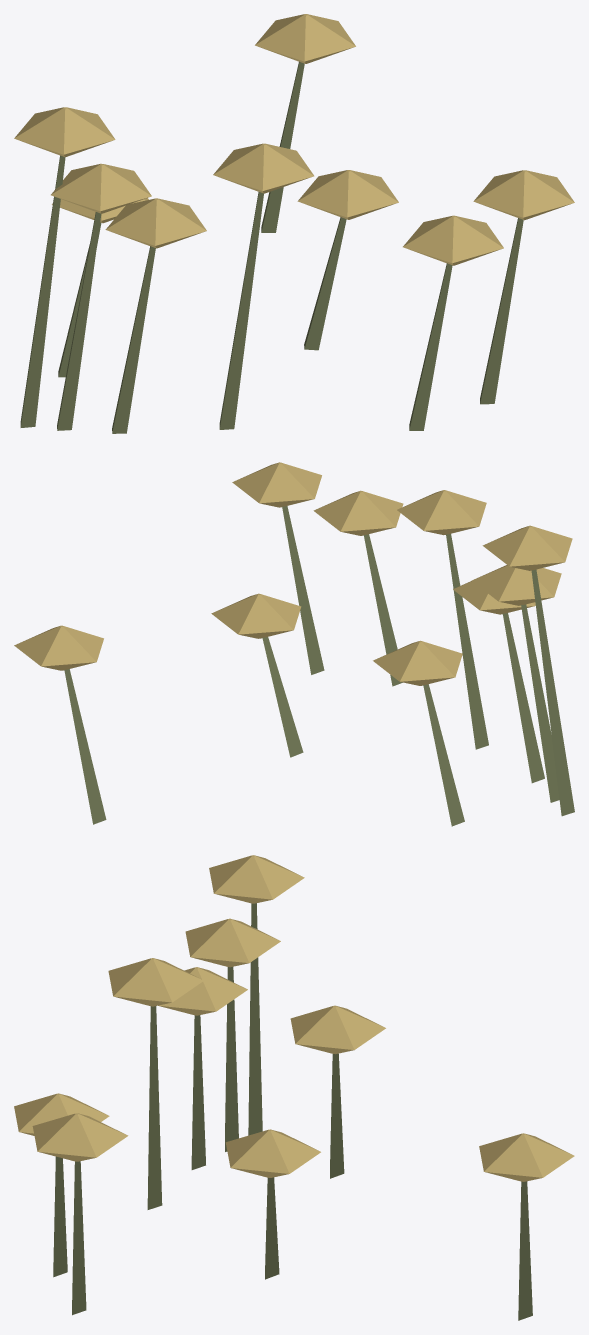
File: NAT_Ground_04_Flowers.glb
The picture shows the model from 3 angles, top to bottom: view 1: azimuth 30°, elevation 25°; view 2: azimuth 150°, elevation 25°; view 3: azimuth 270°, elevation 25°; orthographic projection. The views are drawn at different scales.
Parts seen in each view (by area): view 1: NAT_Ground_04_Flowers; view 2: NAT_Ground_04_Flowers; view 3: NAT_Ground_04_Flowers.
Part boxes in pixels (x1,y1,x2,y2): NAT_Ground_04_Flowers: (14,14,574,433); NAT_Ground_04_Flowers: (14,462,574,826); NAT_Ground_04_Flowers: (14,855,574,1320).
Bounding box in the file's own units: 0.7102 × 0.4482 × 0.7574.
